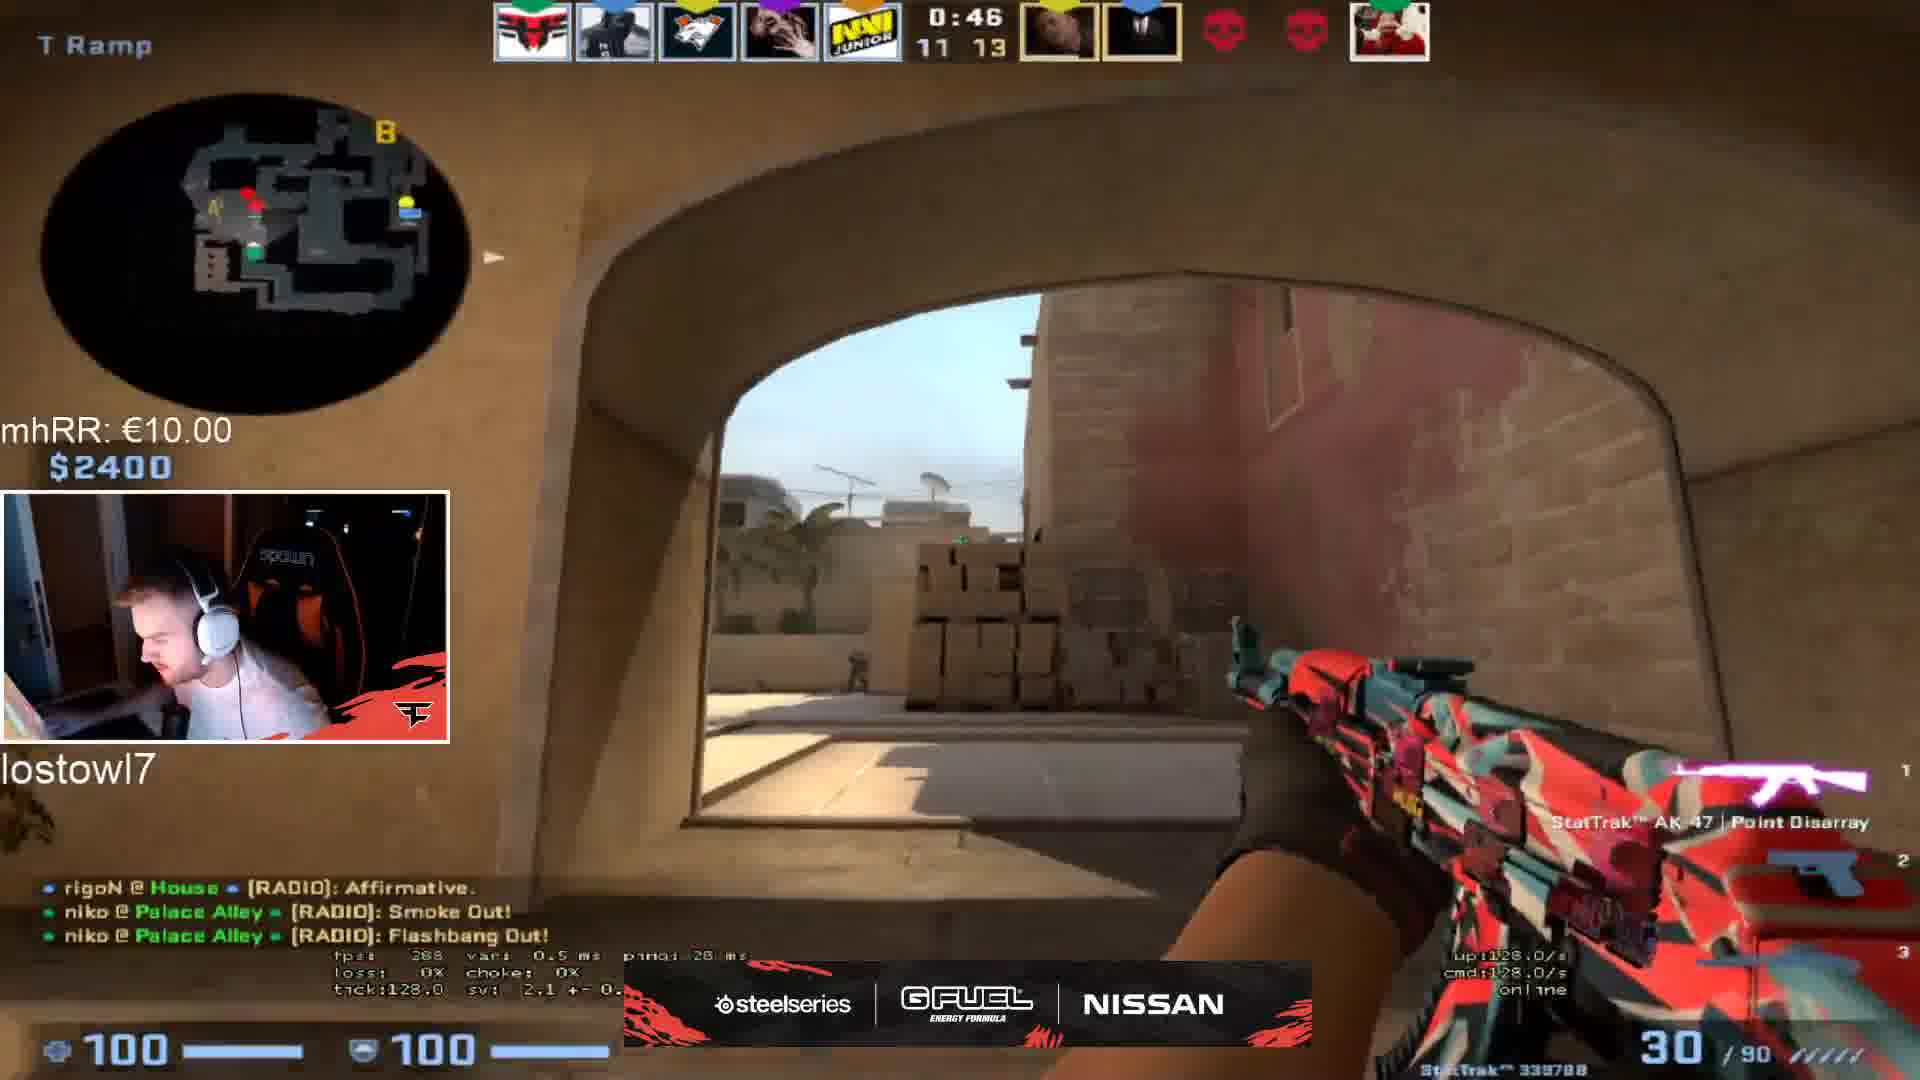enemy: (843, 644, 880, 699)
